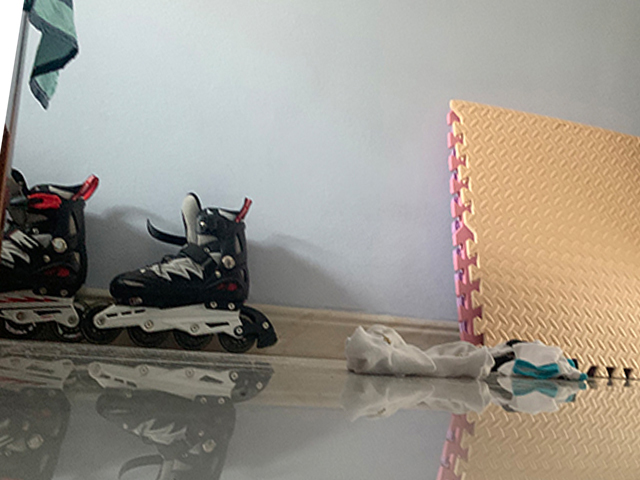socks: (345, 322, 497, 383), (494, 339, 584, 385)
